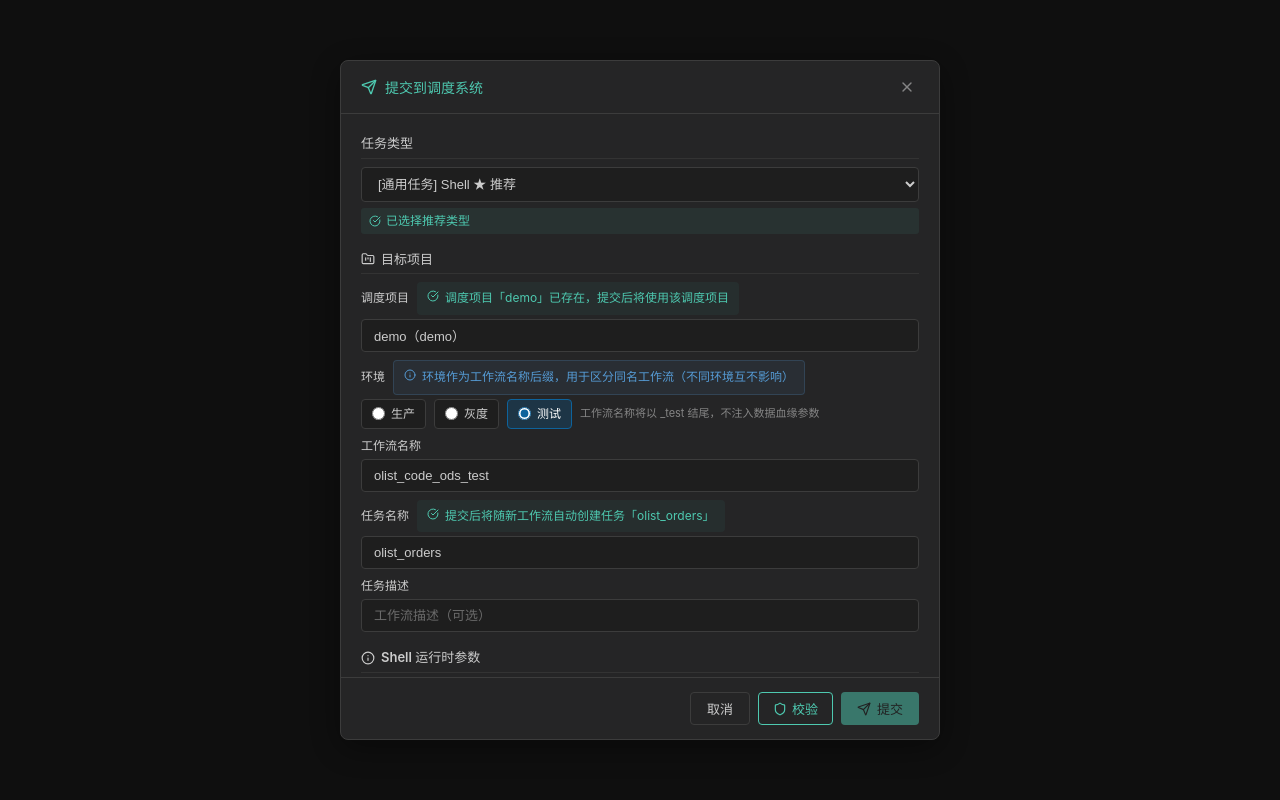
Test case: SubmitToSchedulerModal — 环境单选决定工作流名称后缀 › 名称里不再追加 _v{N} 版本后缀
This screenshot has width=1280, height=800.
expect the field with test id "submit-scheduler-workflow-name" holds "olist_code_ods_test": met, box [361,459,919,492]
Click the radio button labelled "生产" at [378, 414], box [372,407,385,420]
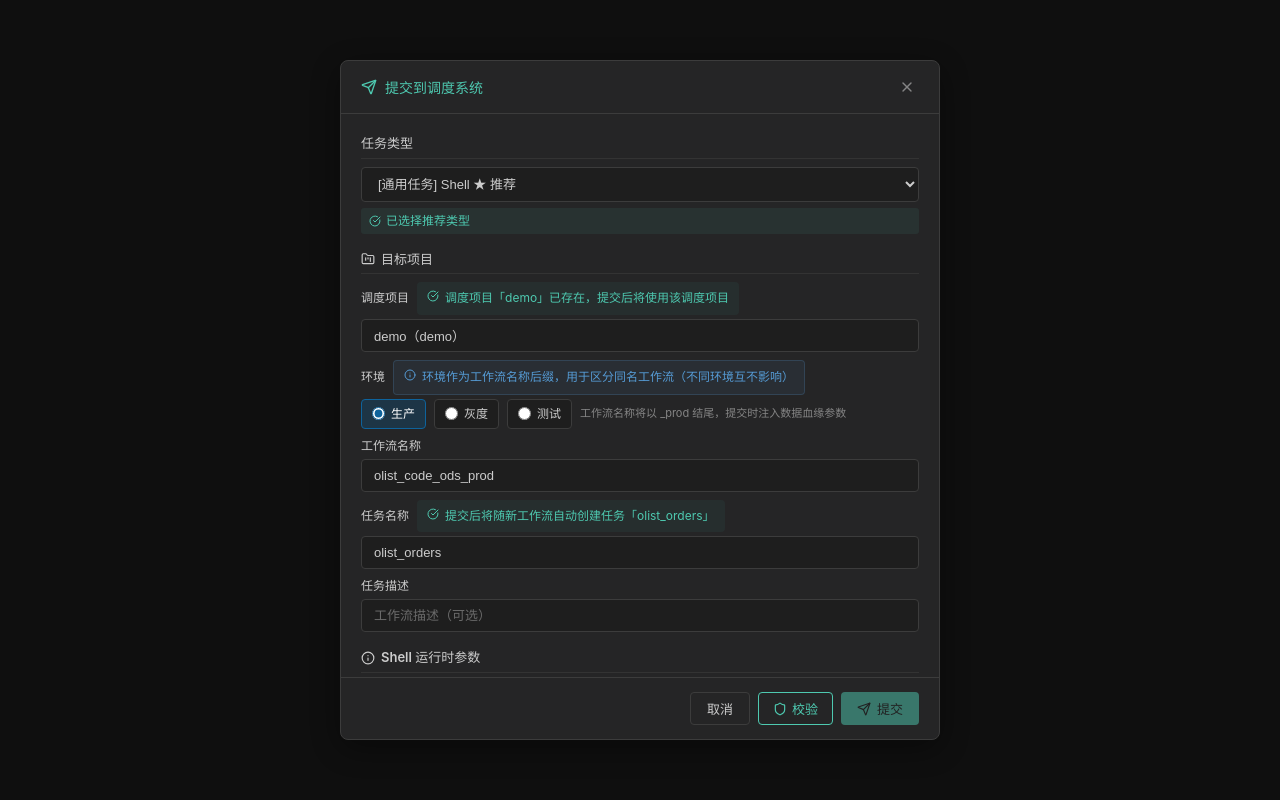
expect the field with test id "submit-scheduler-workflow-name" holds "olist_code_ods_prod": met, box [361,459,919,492]
